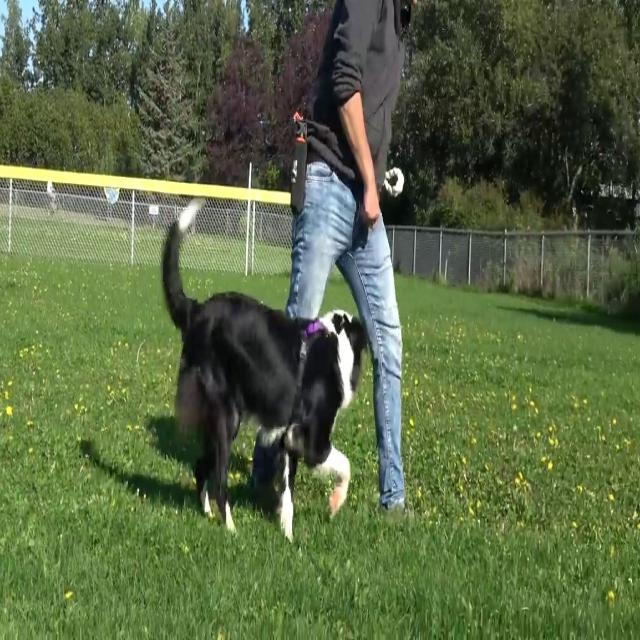Unleashed_Dog: (162, 198, 402, 542)
